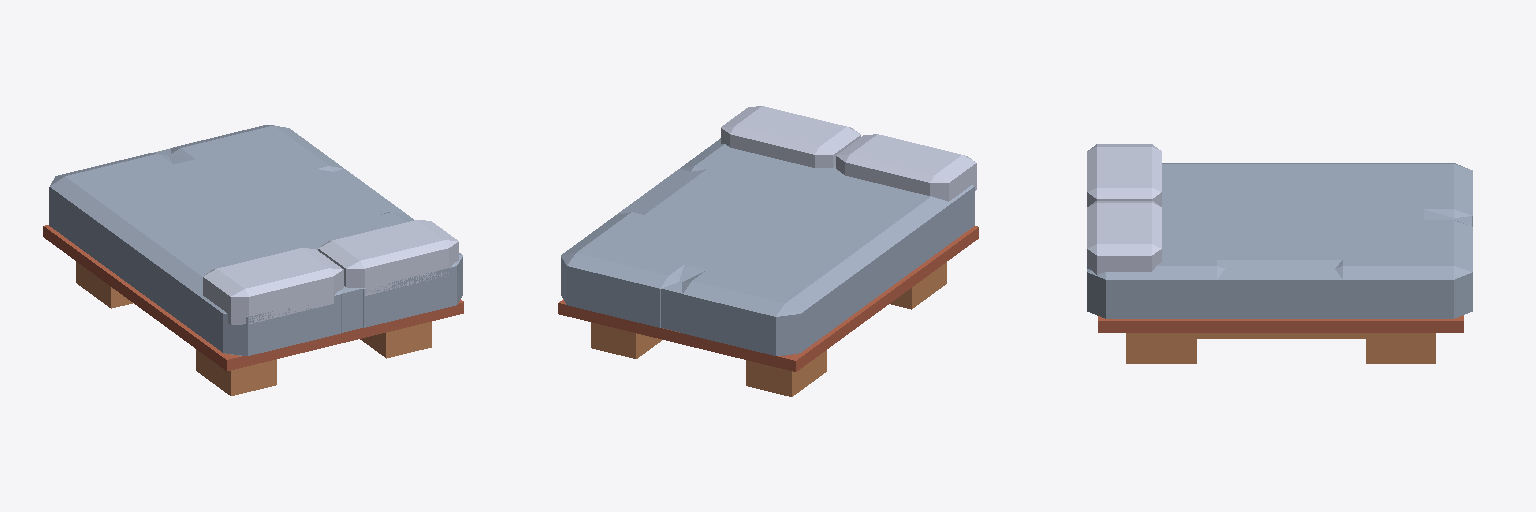
Rendered from bed.obj.
3 views of the same model, side by side, from view 1: azimuth 30°, elevation 25°; view 2: azimuth 150°, elevation 25°; view 3: azimuth 270°, elevation 25° (orthographic).
Parts seen in each view (by area): view 1: mergedBlocks; view 2: mergedBlocks; view 3: mergedBlocks.
Boxes of the visible parts, box(x1,y1,x2,y2) form: mergedBlocks: box(43, 125, 463, 395); mergedBlocks: box(558, 106, 978, 396); mergedBlocks: box(1087, 144, 1472, 363).
Size of the model in its own units: 1.88 by 0.883 by 2.6.